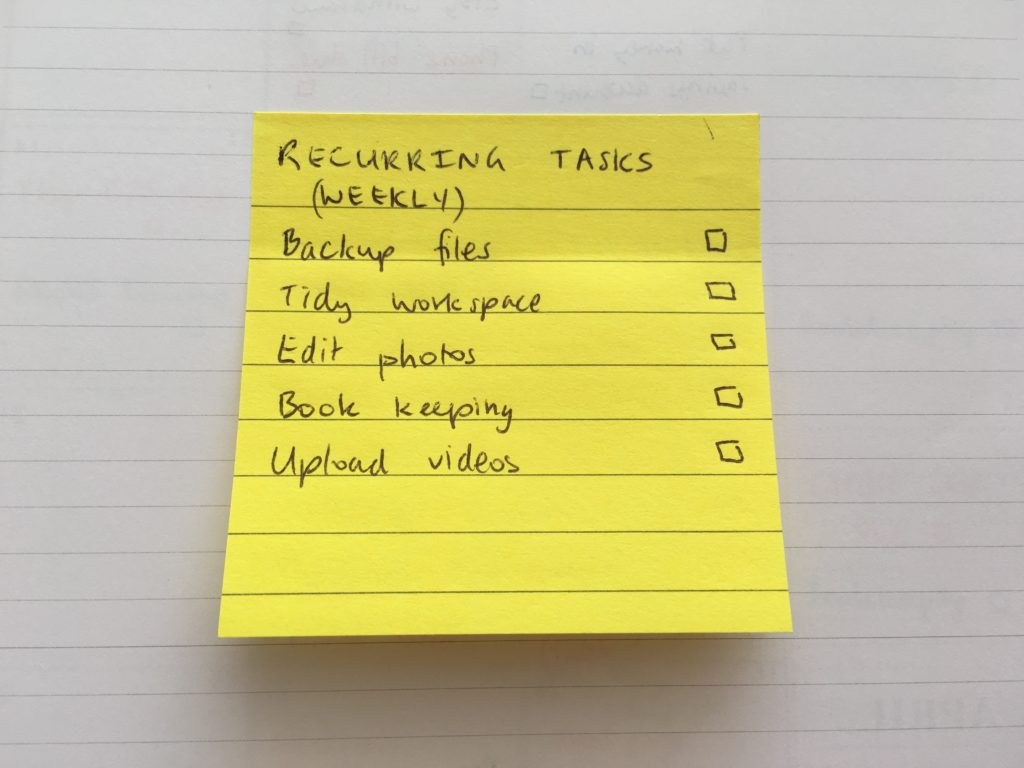Note: (217, 110, 799, 638)
